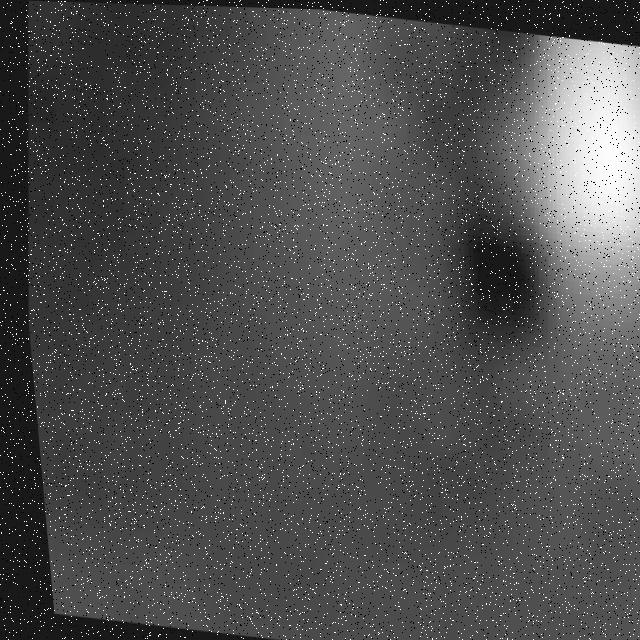person: (468, 26, 640, 386)
